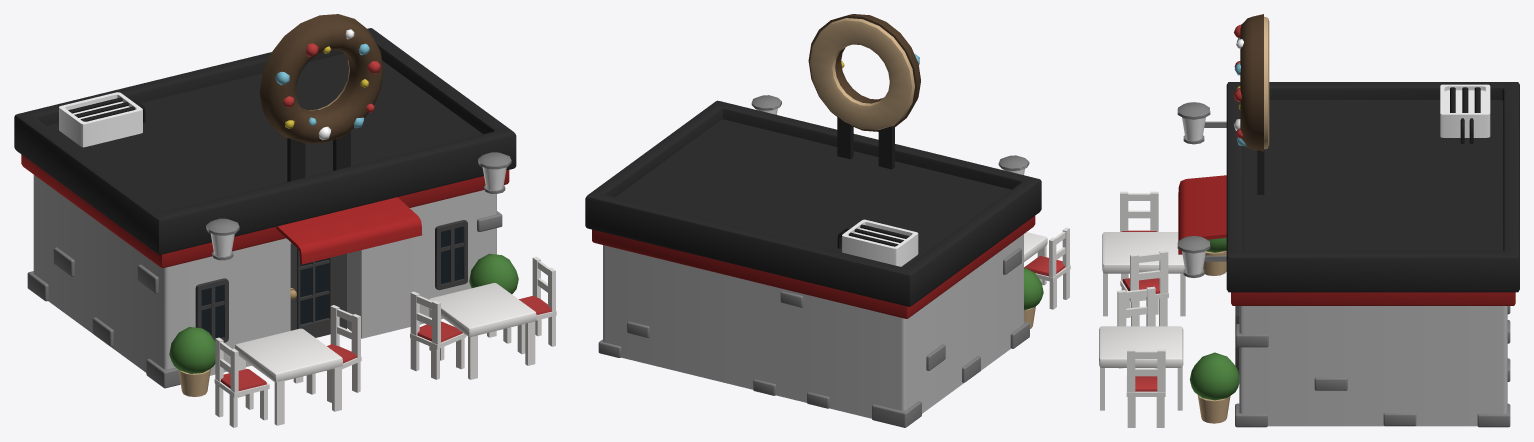
Rendered from SM_donutshop.fbx.
The picture shows the model from 3 angles, left to right: view 1: azimuth 30°, elevation 25°; view 2: azimuth 150°, elevation 25°; view 3: azimuth 270°, elevation 25°; orthographic projection. The views are drawn at different scales.
Parts seen in each view (by area): view 1: Object034; view 2: Object034; view 3: Object034.
Part boxes in pixels (<box>): Object034: <box>14,14,556,427</box>; Object034: <box>585,14,1070,427</box>; Object034: <box>1099,14,1519,427</box>.
Size of the model in its own units: 262 by 225 by 265.
